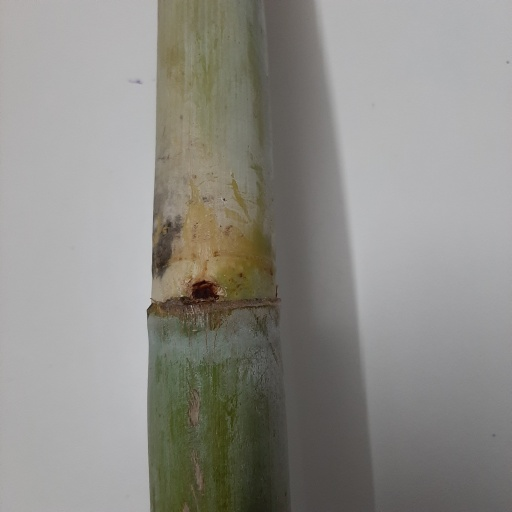Damage_Bud: (186, 277, 224, 303)
